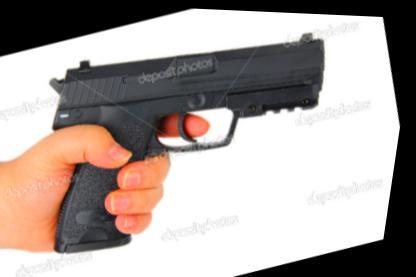pistol: (0, 1, 372, 269)
